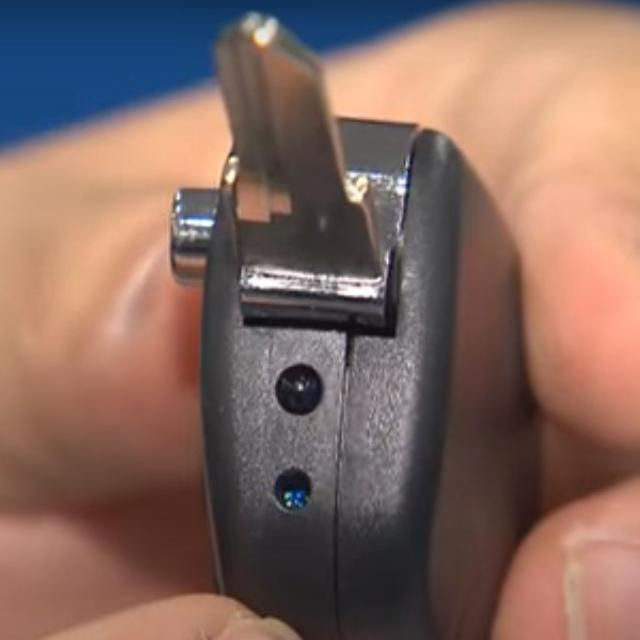hidden camera: (263, 351, 332, 422)
